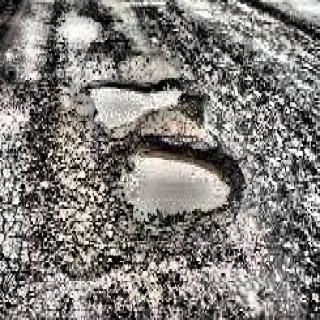pothole: (119, 128, 242, 223), (79, 73, 190, 136), (46, 12, 116, 51)
